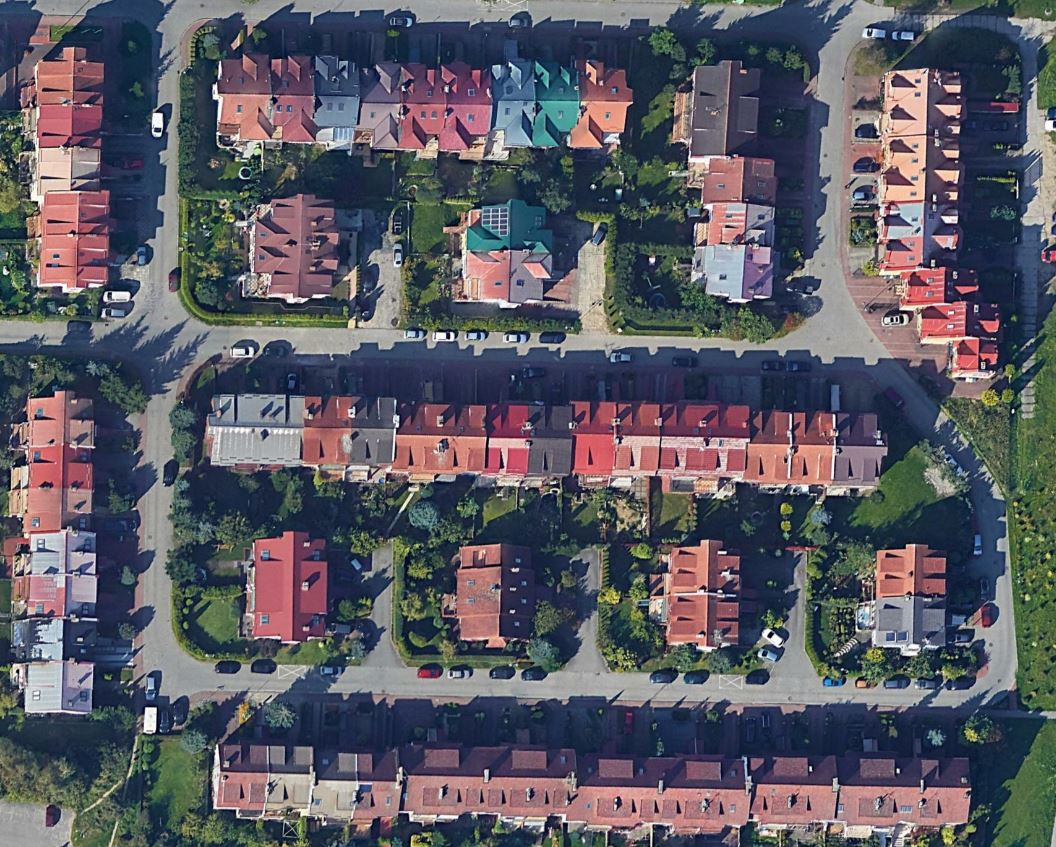terrace house: (212, 734, 987, 847), (197, 386, 898, 494), (854, 47, 1022, 392), (204, 45, 654, 156), (1, 376, 109, 735), (667, 52, 799, 309), (12, 33, 121, 309), (443, 185, 571, 316), (235, 185, 360, 313), (649, 521, 756, 658), (234, 519, 344, 646), (860, 529, 961, 664), (447, 526, 541, 659)
